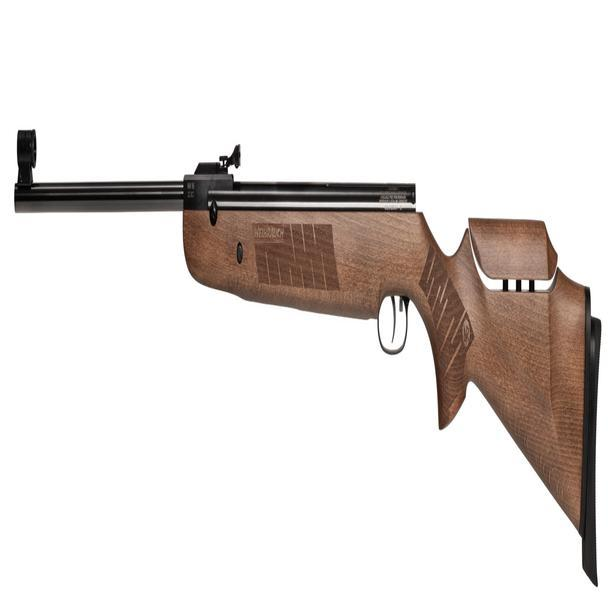Firearm: (11, 122, 605, 589)
